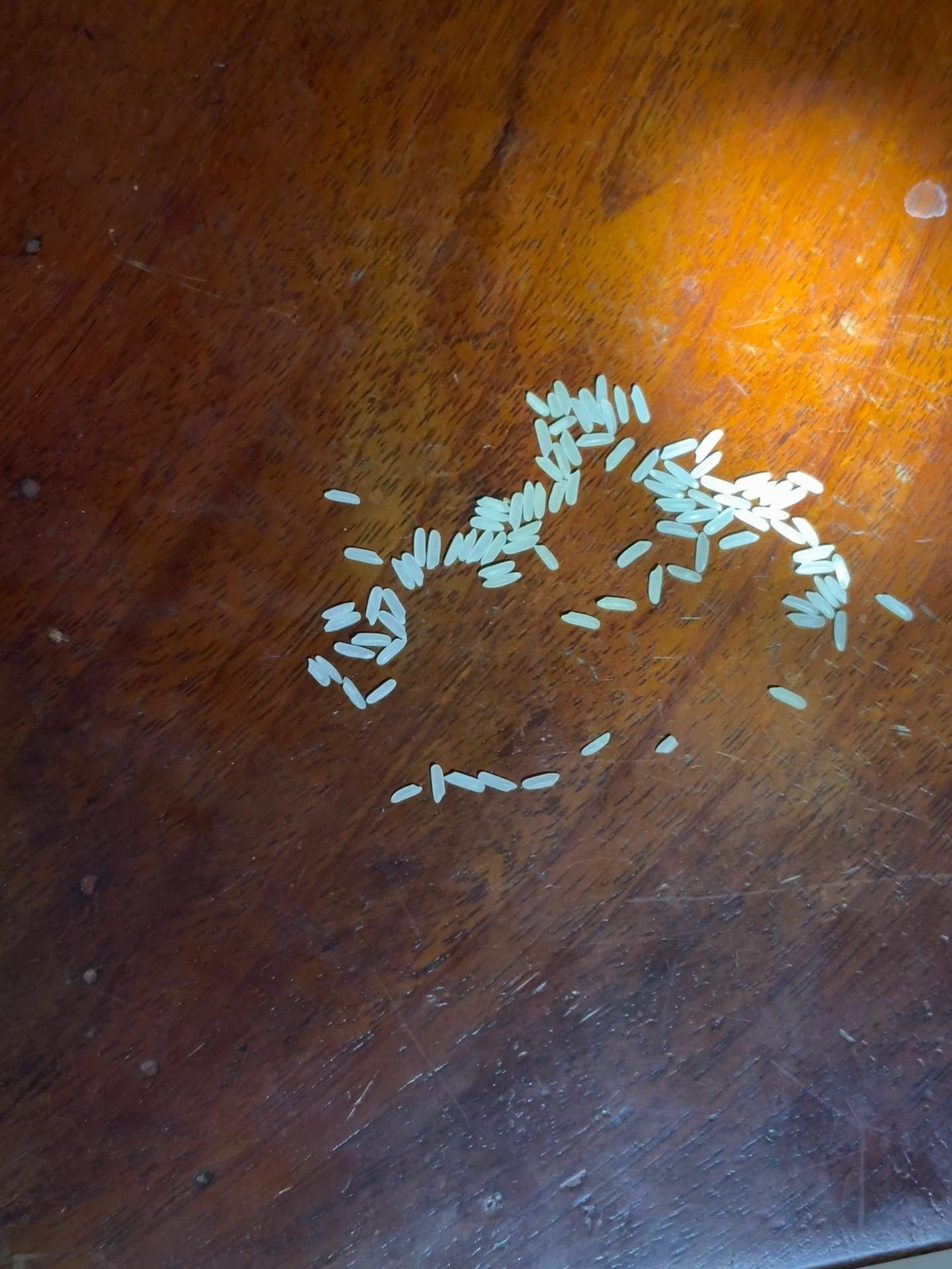Rice-th-y-nh: (694, 429, 724, 463), (631, 449, 660, 484), (663, 460, 699, 488), (876, 594, 913, 621), (605, 438, 635, 471), (770, 518, 806, 545), (579, 389, 605, 426), (616, 541, 652, 567), (467, 531, 494, 564), (792, 517, 820, 548), (787, 471, 823, 495), (690, 452, 723, 478), (813, 575, 839, 608), (771, 487, 808, 510), (759, 481, 793, 506), (445, 772, 485, 793), (704, 508, 735, 535), (383, 589, 406, 625), (482, 532, 507, 565), (769, 687, 806, 709), (378, 611, 407, 639), (734, 509, 769, 532), (688, 488, 723, 511), (783, 595, 819, 617), (806, 591, 834, 619), (376, 638, 405, 665), (571, 399, 594, 433), (793, 544, 834, 563), (560, 430, 582, 465), (342, 677, 366, 709), (391, 558, 415, 590), (478, 772, 516, 792), (719, 530, 757, 550), (367, 679, 397, 704), (644, 479, 683, 498), (334, 642, 375, 660), (651, 469, 686, 490), (316, 656, 342, 684), (509, 520, 542, 542), (402, 553, 424, 586), (631, 385, 650, 423), (325, 612, 361, 632), (661, 439, 697, 459), (752, 504, 789, 523), (734, 471, 771, 490), (535, 456, 563, 481), (581, 733, 611, 756), (716, 493, 752, 512), (562, 611, 600, 629), (552, 443, 572, 477), (657, 521, 697, 538), (824, 575, 847, 604), (535, 419, 553, 456), (504, 536, 539, 555), (832, 554, 851, 589), (677, 508, 718, 524), (345, 547, 383, 564), (484, 572, 522, 589), (701, 475, 735, 494), (787, 612, 825, 629), (458, 529, 478, 561), (667, 565, 702, 583), (479, 561, 514, 579), (523, 773, 560, 790), (508, 493, 525, 530), (598, 596, 637, 612), (656, 497, 695, 513), (307, 659, 330, 686), (833, 611, 848, 652), (444, 534, 463, 566), (366, 587, 382, 625), (796, 560, 834, 576), (351, 632, 391, 647), (600, 400, 617, 435), (565, 470, 582, 505), (430, 765, 446, 802), (391, 784, 422, 803), (413, 528, 428, 567), (322, 602, 354, 620), (535, 545, 558, 570), (576, 432, 614, 447), (695, 533, 709, 573), (648, 566, 663, 603), (526, 392, 549, 416), (477, 496, 509, 513), (614, 387, 629, 423), (427, 530, 441, 568), (470, 516, 503, 532), (549, 416, 575, 436), (554, 382, 571, 412), (549, 482, 565, 513), (325, 490, 360, 504), (743, 483, 769, 501), (475, 507, 506, 522), (759, 481, 777, 506), (534, 483, 546, 519), (524, 482, 535, 519), (547, 393, 563, 418), (656, 736, 678, 753), (595, 375, 607, 402)
